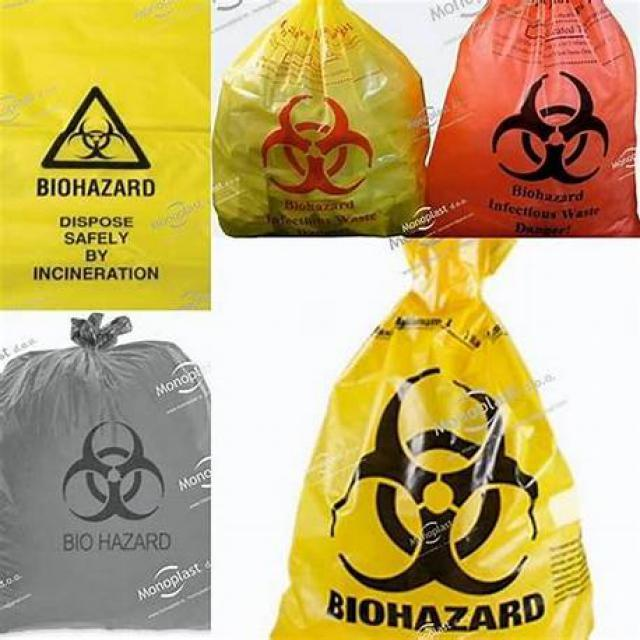waste: (275, 234, 594, 638), (0, 0, 210, 310), (424, 0, 638, 242), (215, 0, 425, 236)
